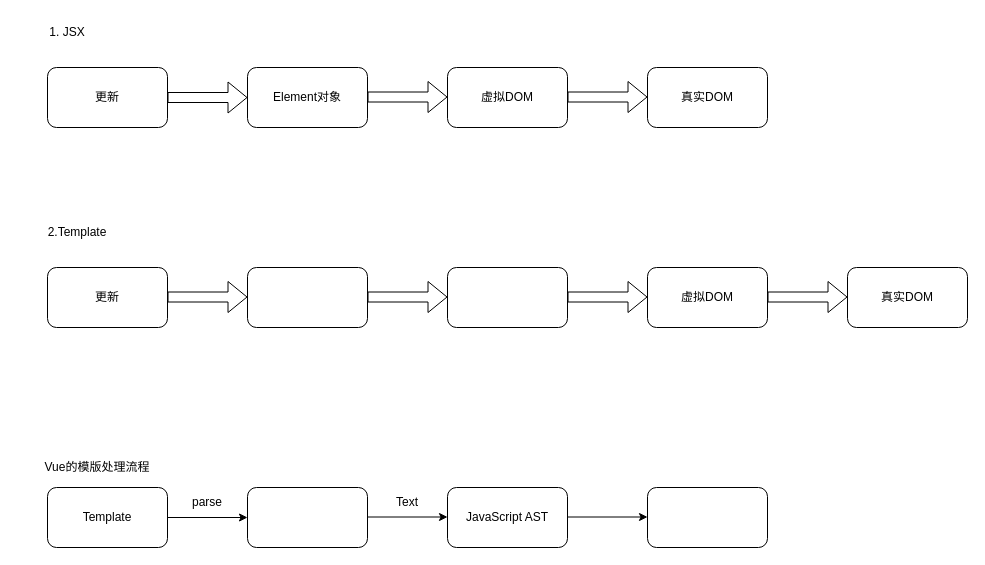
This 985x565 diagram has some shape labels left out. The centre of each missing label's shape, as x and y in pixels:
"Parse(解析)" goes at point 507,297.
"Template(模版)" goes at point 307,297.
"模版AST" goes at point 307,517.
"渲染函数" goes at point 707,517.
